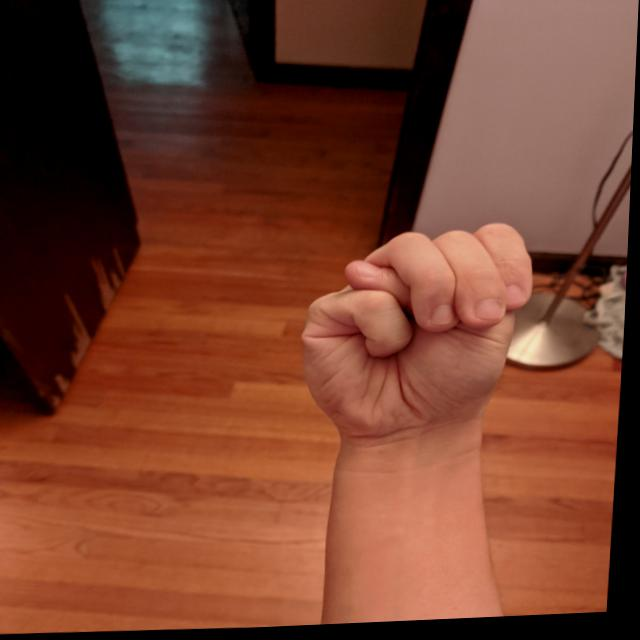M: (286, 213, 546, 452)
